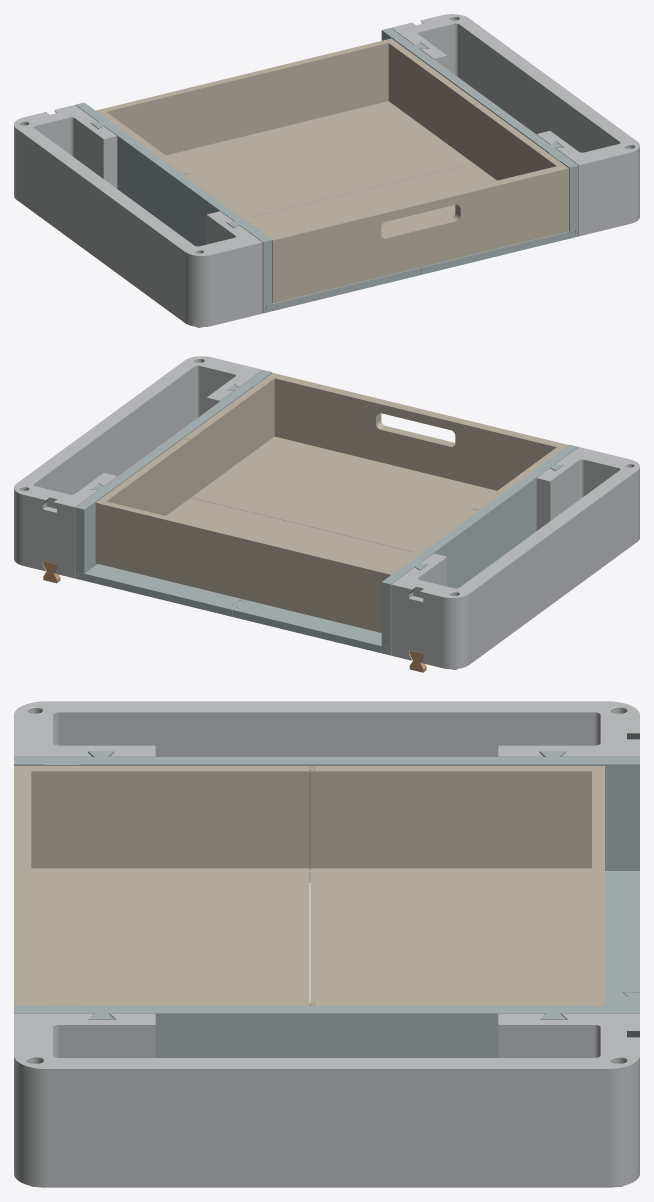
File: layer-assembly.glb
3 views of the same model, one above another, from view 1: azimuth 30°, elevation 25°; view 2: azimuth 150°, elevation 25°; view 3: azimuth 270°, elevation 25° (orthographic). The views are drawn at different scales.
Parts seen in each view (by area): view 1: drawer_half_2, drawer_half_1, end_left_1, end_right_1, side_left, side_right, front_beam_2, front_beam_1; view 2: drawer_half_1, drawer_half_2, end_left_1, end_right_1, side_left, side_right, rear_beam_2, rear_beam_1; view 3: end_right_1, drawer_half_1, drawer_half_2, end_left_1, side_right, side_left, rear_beam_1.
Part boxes in pixels (box(x1,y1,x2,y2)): drawer_half_2: box(96, 38, 479, 217); drawer_half_1: box(184, 103, 568, 303); end_left_1: box(14, 105, 262, 327); end_right_1: box(391, 14, 639, 236); side_left: box(75, 102, 272, 313); side_right: box(381, 28, 578, 238); front_beam_2: box(420, 230, 575, 274); front_beam_1: box(266, 267, 420, 310); drawer_half_1: box(184, 373, 568, 551); drawer_half_2: box(95, 438, 479, 632); end_left_1: box(391, 447, 639, 669); end_right_1: box(14, 356, 262, 578); side_left: box(381, 444, 578, 655); side_right: box(75, 370, 272, 580); rear_beam_2: box(78, 564, 245, 616); rear_beam_1: box(231, 600, 387, 652); end_right_1: box(14, 1013, 639, 1187); drawer_half_1: box(14, 766, 313, 1005); drawer_half_2: box(310, 766, 604, 1005); end_left_1: box(14, 701, 639, 756); side_right: box(14, 1005, 639, 1057); side_left: box(14, 751, 639, 882); rear_beam_1: box(605, 871, 639, 996).
Bounding box in the file's own units: 0.399 × 0.068 × 0.287.
